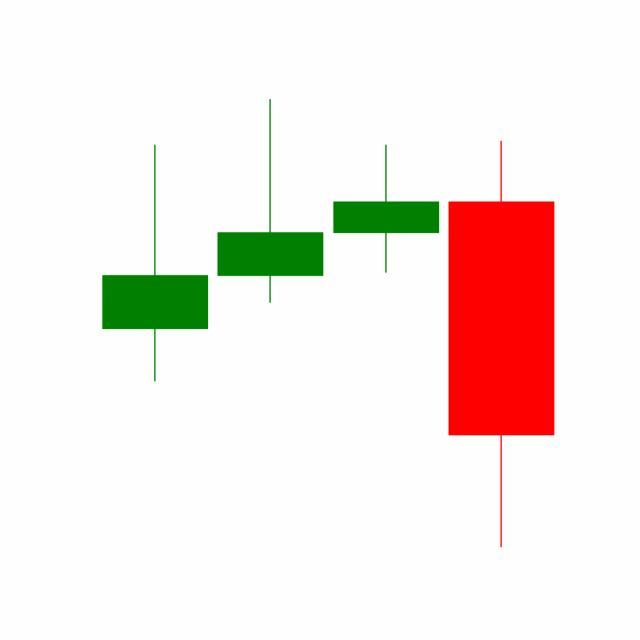Spinning Top: (329, 144, 445, 276)
